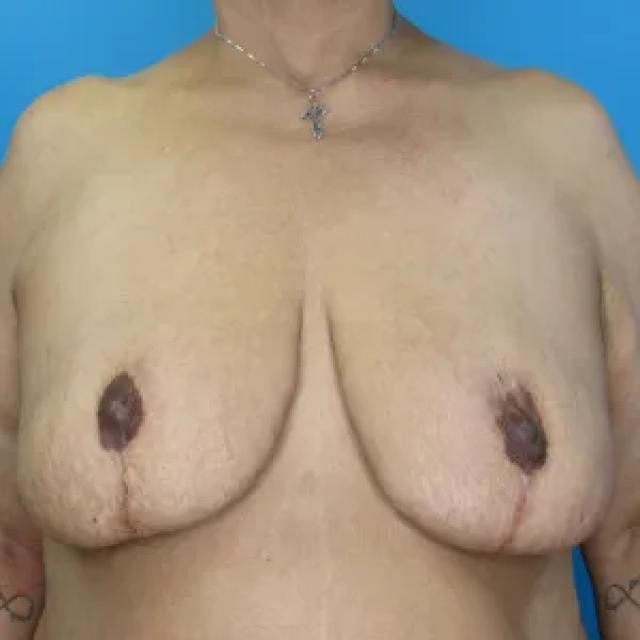Seno herido: (319, 244, 623, 572), (8, 244, 312, 564)
